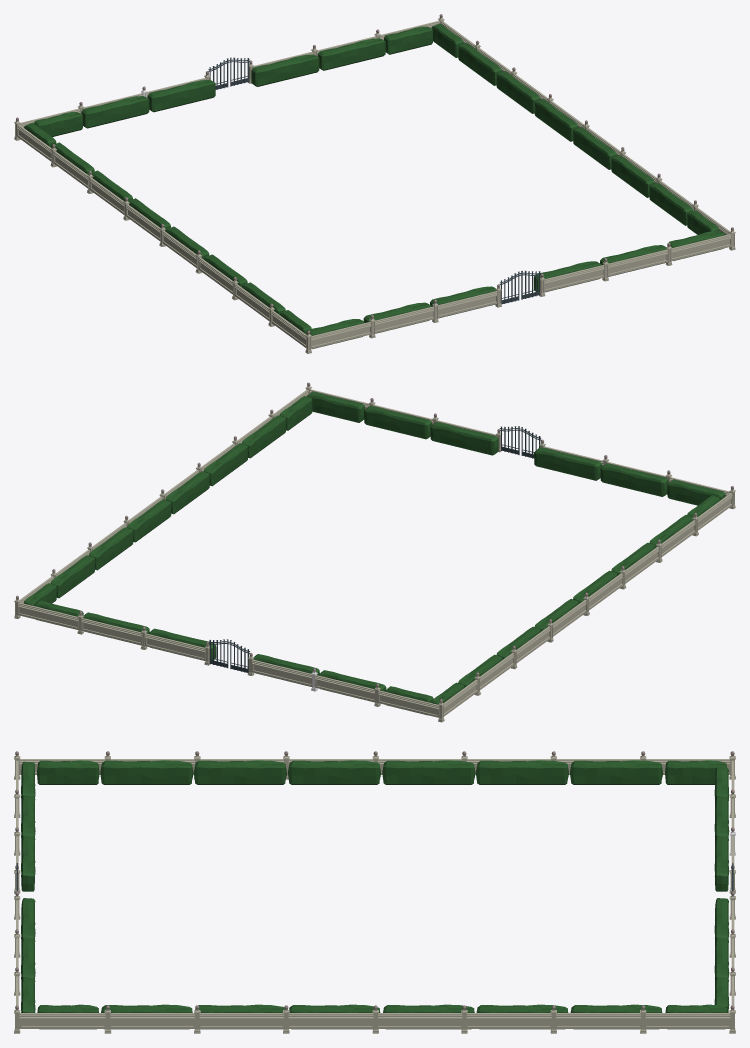
Rendered from worldFloor.glb.
3 renders of one model, top to bottom at view 1: azimuth 30°, elevation 25°; view 2: azimuth 150°, elevation 25°; view 3: azimuth 270°, elevation 25°, orthographic. The views are drawn at different scales.
Visible parts, largest first — view 1: Cube.031_Cube.1195, Cube.031_Cube.1194, Cube.031_Cube.1192, Cube.031_Cube.1193, Cube.031_Cube.1217, Cube.031_Cube.1205, Cube.031_Cube.1207, Cube.031_Cube.1203, Cube.031_Cube.1206, Cube.031_Cube.1204, Cube.031_Cube.1202, Cube.031_Cube.1216 (+8 smaller); view 2: Cube.031_Cube.1191, Cube.031_Cube.1189, Cube.031_Cube.1188, Cube.031_Cube.1190, Cube.031_Cube.1210, Cube.031_Cube.1205, Cube.031_Cube.1206, Cube.031_Cube.1204, Cube.031_Cube.1203, Cube.031_Cube.1207, Cube.031_Cube.1208, Cube.031_Cube.1202 (+8 smaller); view 3: Cube.031_Cube.1196, Cube.031_Cube.1199, Cube.031_Cube.1197, Cube.031_Cube.1198, Cube.031_Cube.1200, Cube.031_Cube.1201, Cube.031_Cube.1209, Cube.031_Cube.1214, Cube.031_Cube.1135, Cube.031_Cube.1140, Cube.031_Cube.1150, Cube.031_Cube.1160 (+22 smaller).
Part boxes in pixels (bbox=[...]): Cube.031_Cube.1195: bbox=[251, 54, 319, 86]; Cube.031_Cube.1194: bbox=[317, 38, 385, 70]; Cube.031_Cube.1192: bbox=[147, 79, 215, 112]; Cube.031_Cube.1193: bbox=[81, 96, 149, 128]; Cube.031_Cube.1217: bbox=[384, 26, 432, 54]; Cube.031_Cube.1205: bbox=[534, 99, 578, 141]; Cube.031_Cube.1207: bbox=[458, 43, 502, 85]; Cube.031_Cube.1203: bbox=[611, 155, 655, 197]; Cube.031_Cube.1206: bbox=[496, 71, 540, 113]; Cube.031_Cube.1204: bbox=[573, 127, 616, 169]; Cube.031_Cube.1202: bbox=[649, 183, 693, 225]; Cube.031_Cube.1216: bbox=[33, 112, 82, 136]; Cube.031_Cube.1191: bbox=[430, 422, 498, 455]; Cube.031_Cube.1189: bbox=[600, 463, 668, 496]; Cube.031_Cube.1188: bbox=[534, 447, 602, 480]; Cube.031_Cube.1190: bbox=[364, 405, 432, 439]; Cube.031_Cube.1210: bbox=[307, 391, 364, 422]; Cube.031_Cube.1205: bbox=[127, 499, 171, 542]; Cube.031_Cube.1206: bbox=[89, 527, 133, 570]; Cube.031_Cube.1204: bbox=[165, 471, 209, 514]; Cube.031_Cube.1203: bbox=[203, 443, 247, 486]; Cube.031_Cube.1207: bbox=[50, 555, 94, 598]; Cube.031_Cube.1208: bbox=[667, 479, 725, 505]; Cube.031_Cube.1202: bbox=[242, 415, 285, 458]; Cube.031_Cube.1196: bbox=[100, 760, 193, 784]; Cube.031_Cube.1199: bbox=[382, 760, 475, 784]; Cube.031_Cube.1197: bbox=[194, 760, 287, 784]; Cube.031_Cube.1198: bbox=[288, 760, 381, 784]; Cube.031_Cube.1200: bbox=[476, 760, 569, 784]; Cube.031_Cube.1201: bbox=[570, 760, 663, 784]; Cube.031_Cube.1209: bbox=[37, 760, 99, 784]; Cube.031_Cube.1214: bbox=[665, 760, 726, 784]; Cube.031_Cube.1135: bbox=[108, 1017, 196, 1028]; Cube.031_Cube.1140: bbox=[197, 1017, 285, 1028]; Cube.031_Cube.1150: bbox=[375, 1017, 463, 1028]; Cube.031_Cube.1160: bbox=[554, 1017, 642, 1028].
Size of the model in its own units: 45.4 by 2.98 by 53.94.
